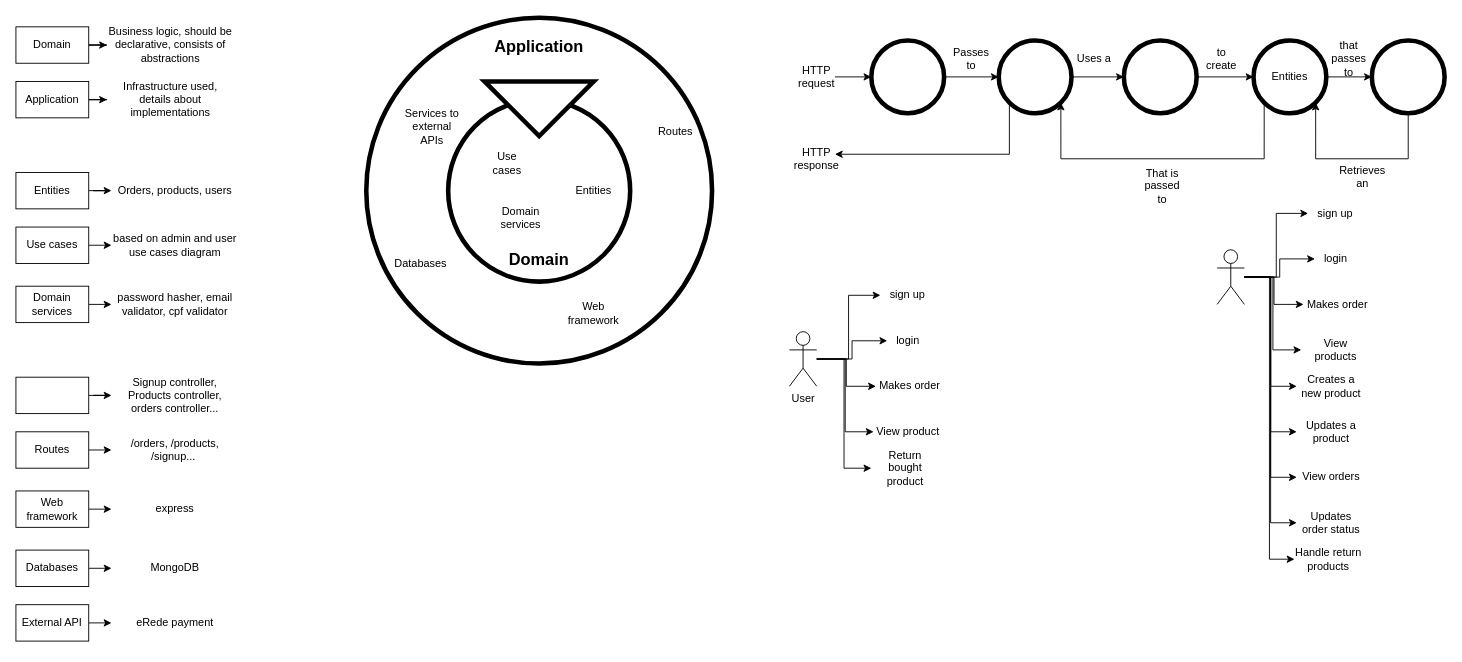
Some shapes in this 1462 by 662 pixel diagram are drawn without their labels. Each missing label, with the centre of its shape:
Adapters: point 539,108
Admin: point 1230,276
Controller: point 1034,76
Controllers: point 52,395
Domain services and Use cases: point 1407,76
Repository: point 1159,76
Router: point 907,76
